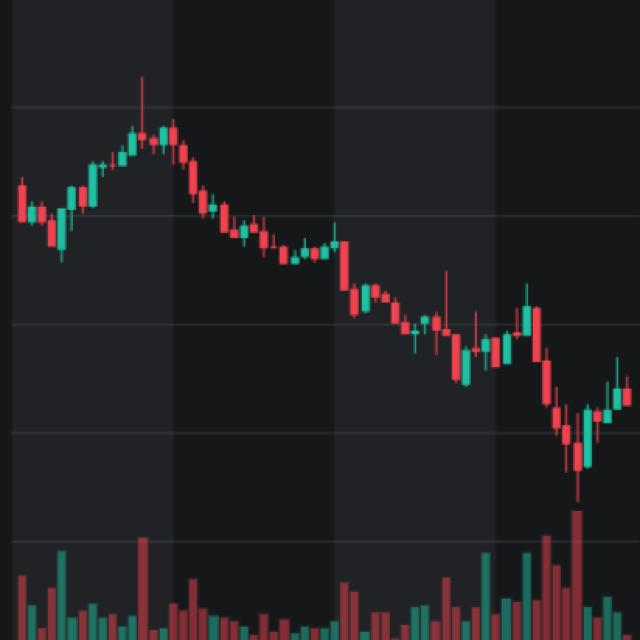Support-breakout: (46, 114, 462, 386)
